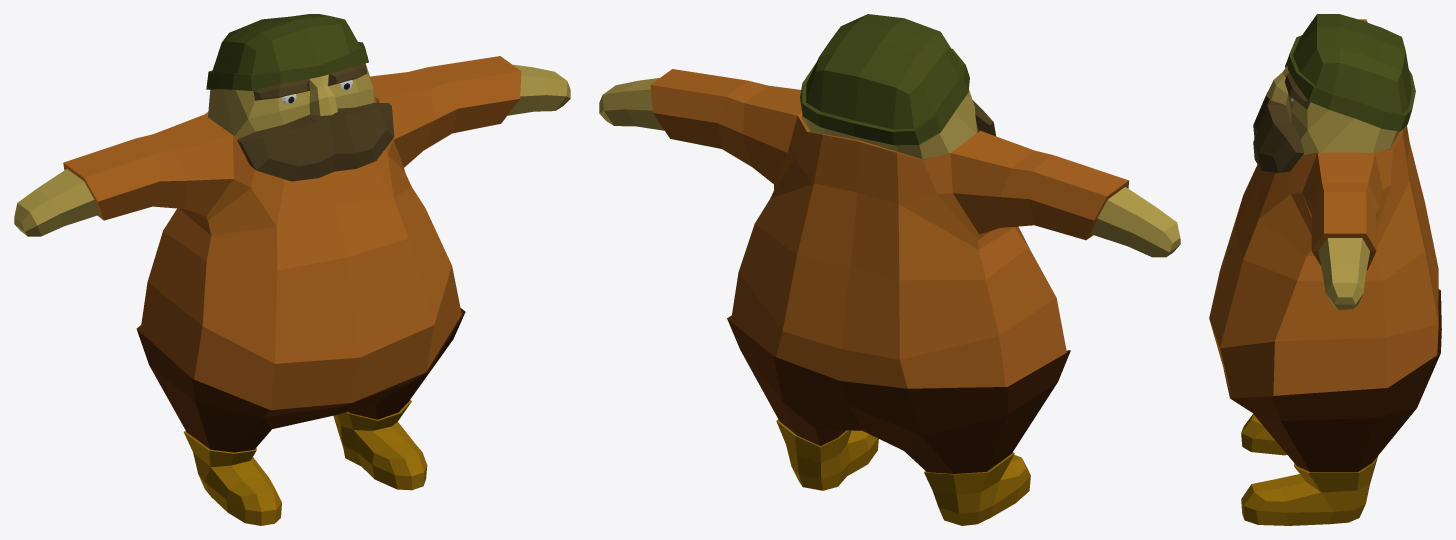
File: Drwal.FBX
3 views of the same model, side by side, from view 1: azimuth 30°, elevation 25°; view 2: azimuth 150°, elevation 25°; view 3: azimuth 270°, elevation 25° (orthographic). The views are drawn at different scales.
Parts seen in each view (by area): view 1: Box002; view 2: Box002; view 3: Box002.
Boxes of the visible parts, x1,y1,x2,y2 form: Box002: (14,14,570,525); Box002: (599,14,1180,525); Box002: (1209,14,1441,525).
Bounding box in the file's own units: 159 × 125 × 58.09.
